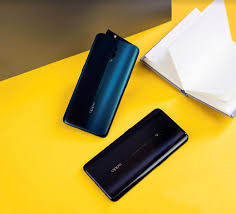oppo: (83, 106, 191, 204), (59, 27, 142, 139)
